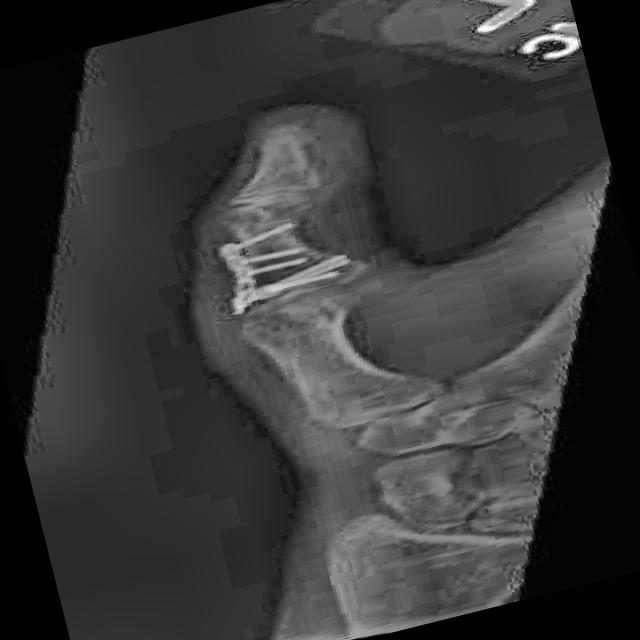fingers positive: (196, 169, 386, 356)
